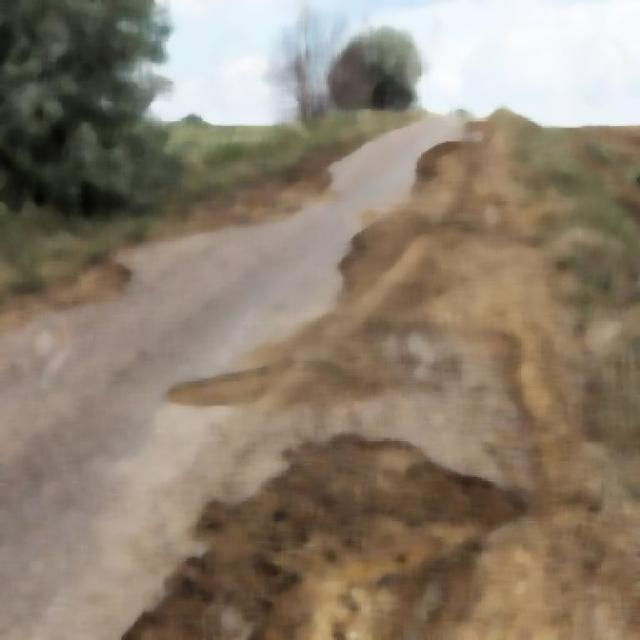Pothole: (155, 467, 461, 640), (167, 354, 336, 424)
